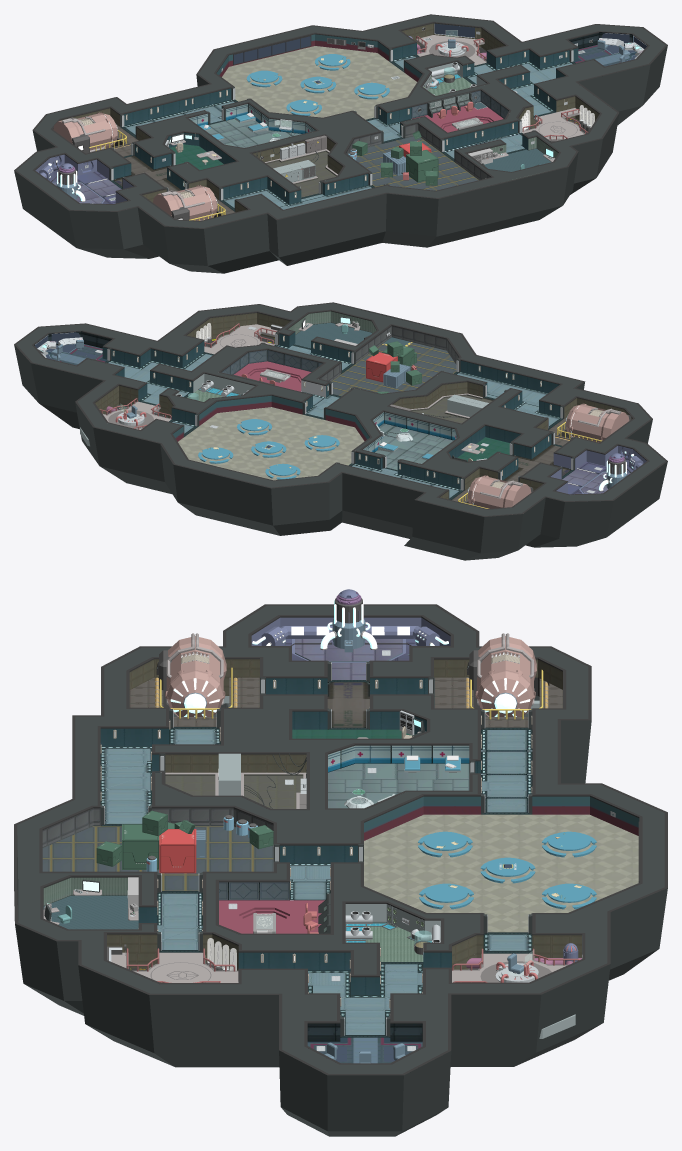
Rendered from untitled_lowpoly.glb.
The picture shows the model from 3 angles, top to bottom: view 1: azimuth 30°, elevation 25°; view 2: azimuth 150°, elevation 25°; view 3: azimuth 270°, elevation 25°; orthographic projection. The views are drawn at different scales.
Parts seen in each view (by area): view 1: Object_6, Object_86, Object_178, Object_143, Object_141, Object_113, Object_177, Object_64, Object_58, Object_107, Object_39, Object_167 (+32 smaller); view 2: Object_6, Object_86, Object_178, Object_143, Object_141, Object_113, Object_177, Object_64, Object_139, Object_167, Object_137, Object_66 (+29 smaller); view 3: Object_6, Object_86, Object_178, Object_143, Object_141, Object_113, Object_177, Object_64, Object_167, Object_139, Object_135, Object_150 (+35 smaller).
Part boxes in pixels (x1=…): Object_6: x1=14, y1=15, x2=667, y2=273; Object_86: x1=14, y1=14, x2=667, y2=228; Object_178: x1=222, y1=46, x2=416, y2=119; Object_143: x1=113, y1=43, x2=578, y2=204; Object_141: x1=53, y1=23, x2=599, y2=212; Object_113: x1=53, y1=113, x2=487, y2=220; Object_177: x1=356, y1=136, x2=478, y2=190; Object_64: x1=246, y1=54, x2=389, y2=115; Object_58: x1=55, y1=27, x2=644, y2=201; Object_107: x1=233, y1=23, x2=646, y2=83; Object_39: x1=417, y1=35, x2=583, y2=139; Object_167: x1=207, y1=118, x2=301, y2=147; Object_6: x1=14, y1=303, x2=667, y2=560; Object_86: x1=14, y1=302, x2=667, y2=516; Object_178: x1=178, y1=407, x2=364, y2=480; Object_143: x1=102, y1=332, x2=560, y2=489; Object_141: x1=95, y1=313, x2=632, y2=499; Object_113: x1=468, y1=404, x2=629, y2=508; Object_177: x1=331, y1=342, x2=456, y2=396; Object_64: x1=198, y1=419, x2=339, y2=479; Object_139: x1=173, y1=395, x2=369, y2=441; Object_167: x1=375, y1=423, x2=453, y2=470; Object_137: x1=320, y1=326, x2=458, y2=381; Object_66: x1=80, y1=373, x2=622, y2=460; Object_6: x1=15, y1=605, x2=667, y2=1136; Object_86: x1=14, y1=604, x2=667, y2=1075; Object_178: x1=364, y1=814, x2=638, y2=932; Object_143: x1=100, y1=678, x2=480, y2=995; Object_141: x1=107, y1=659, x2=581, y2=970; Object_113: x1=166, y1=636, x2=536, y2=716; Object_177: x1=42, y1=826, x2=273, y2=890; Object_64: x1=418, y1=831, x2=596, y2=909; Object_167: x1=328, y1=763, x2=469, y2=808; Object_139: x1=364, y1=796, x2=639, y2=840; Object_135: x1=129, y1=677, x2=562, y2=727; Object_150: x1=100, y1=729, x2=532, y2=950.
Bounding box in the file's own units: 8.44 × 1.05 × 4.95.
93 materials, 44 textured.
